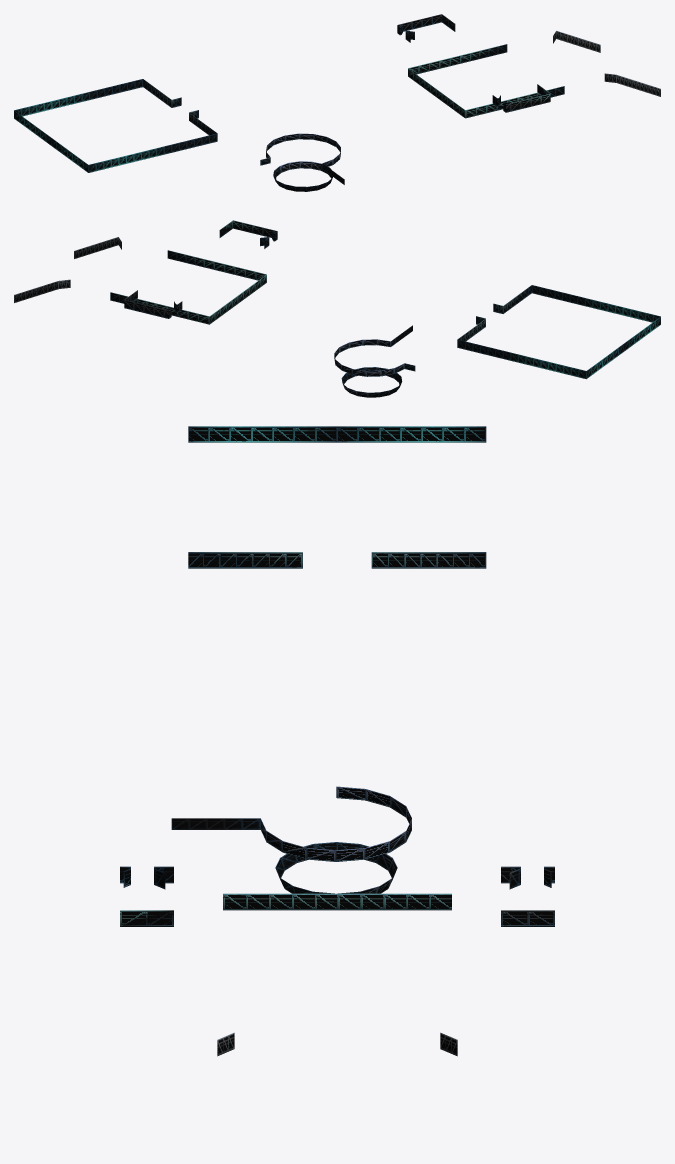
Rendered from PelagicIIExploration_Alpha_70.glb.
3 renders of one model, top to bottom at view 1: azimuth 30°, elevation 25°; view 2: azimuth 150°, elevation 25°; view 3: azimuth 270°, elevation 25°, orthographic. The views are drawn at different scales.
Visible parts, largest first — view 1: PelagicIIExploration_Alpha_70; view 2: PelagicIIExploration_Alpha_70; view 3: PelagicIIExploration_Alpha_70.
Boxes of the visible parts, bbox=[...] form: PelagicIIExploration_Alpha_70: bbox=[14, 14, 660, 191]; PelagicIIExploration_Alpha_70: bbox=[14, 220, 660, 397]; PelagicIIExploration_Alpha_70: bbox=[120, 426, 554, 1056].
Size of the model in its own units: 912 by 156 by 296.
Materials: 1 (1 with a texture image).
